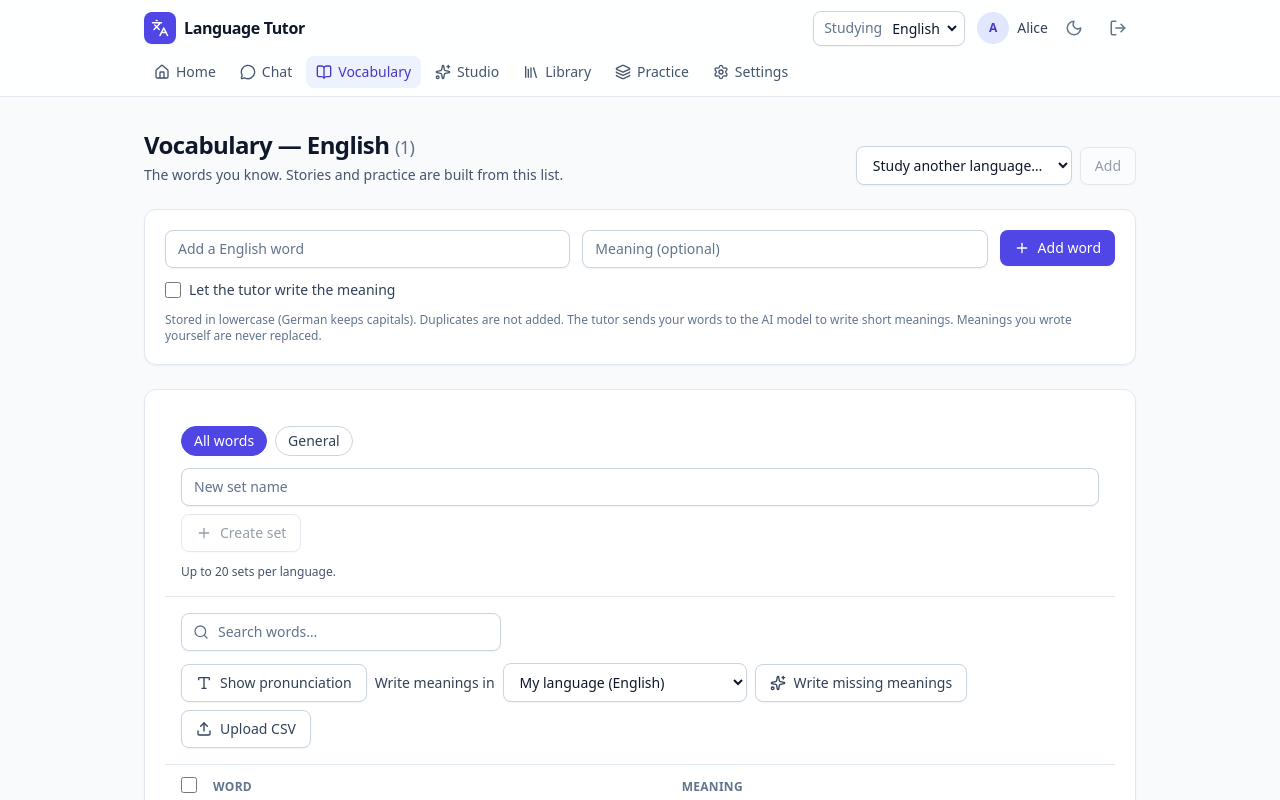
shared browser: one person after another › user B never sees user A's words after A logs out and B logs in
Step 1. Click the button named "Log out" → (1118, 28), box [1100,10,1136,46]
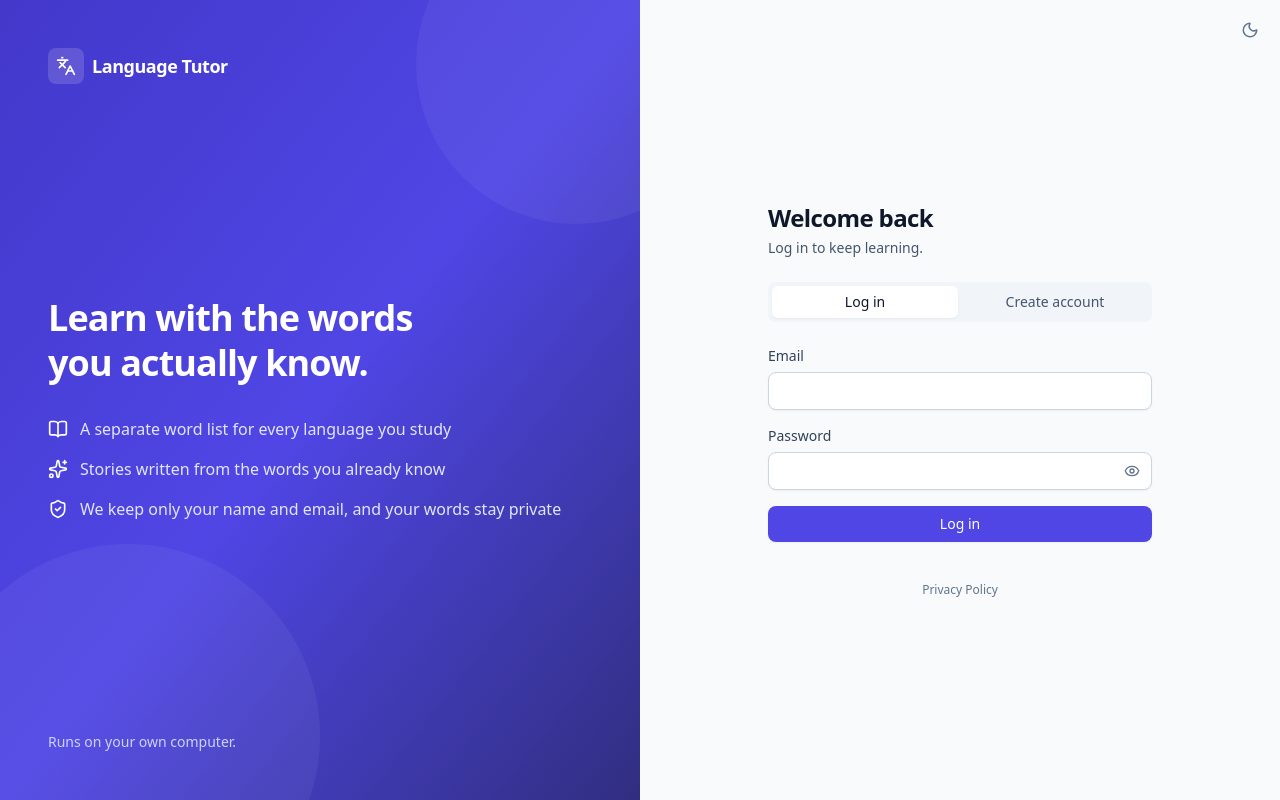
Check: the button "Log in" is shown, box [768,506,1152,542]
Step 2. Type "bob@example.com" into the field labelled "Email" → (960, 391), box [768,372,1152,410]
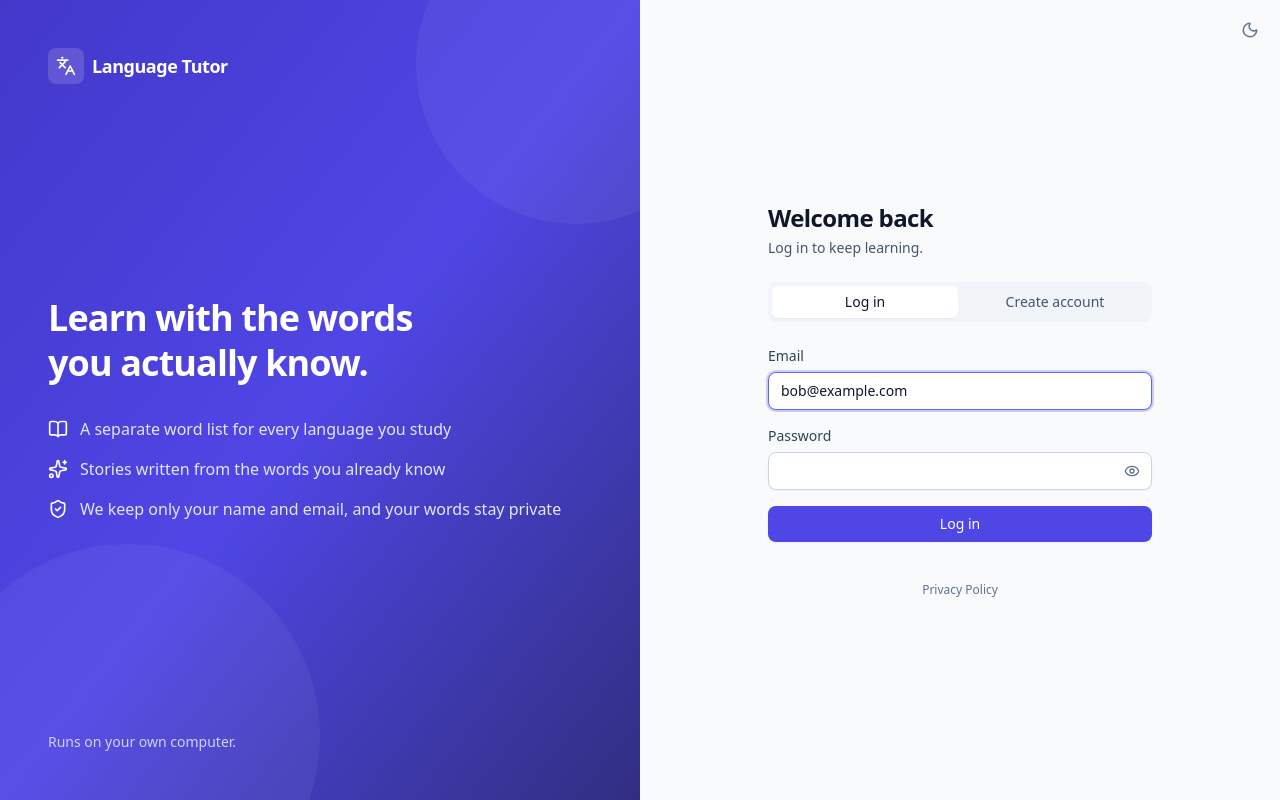
Step 3. Type "password123" into the password field labelled "Password" → (960, 471), box [768,452,1152,490]
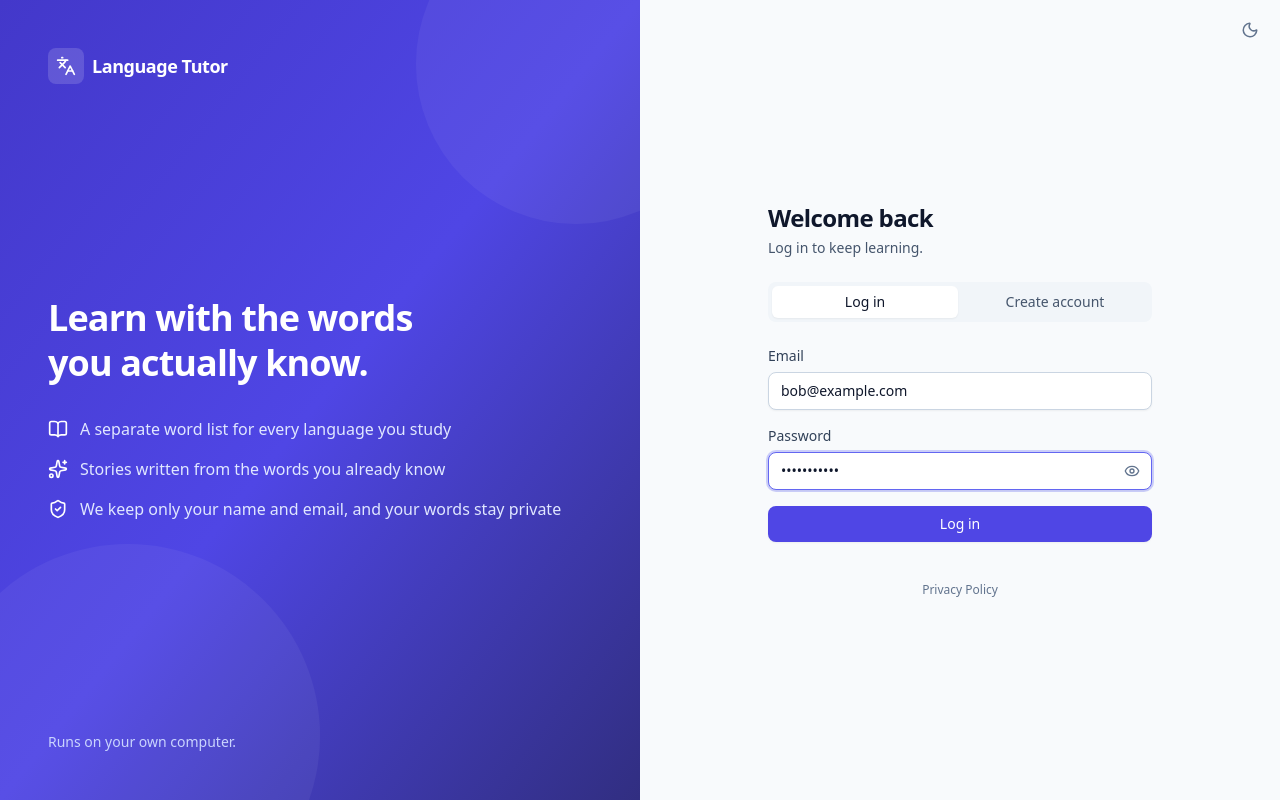
Step 4. Click the button "Log in" → (960, 524), box [768,506,1152,542]
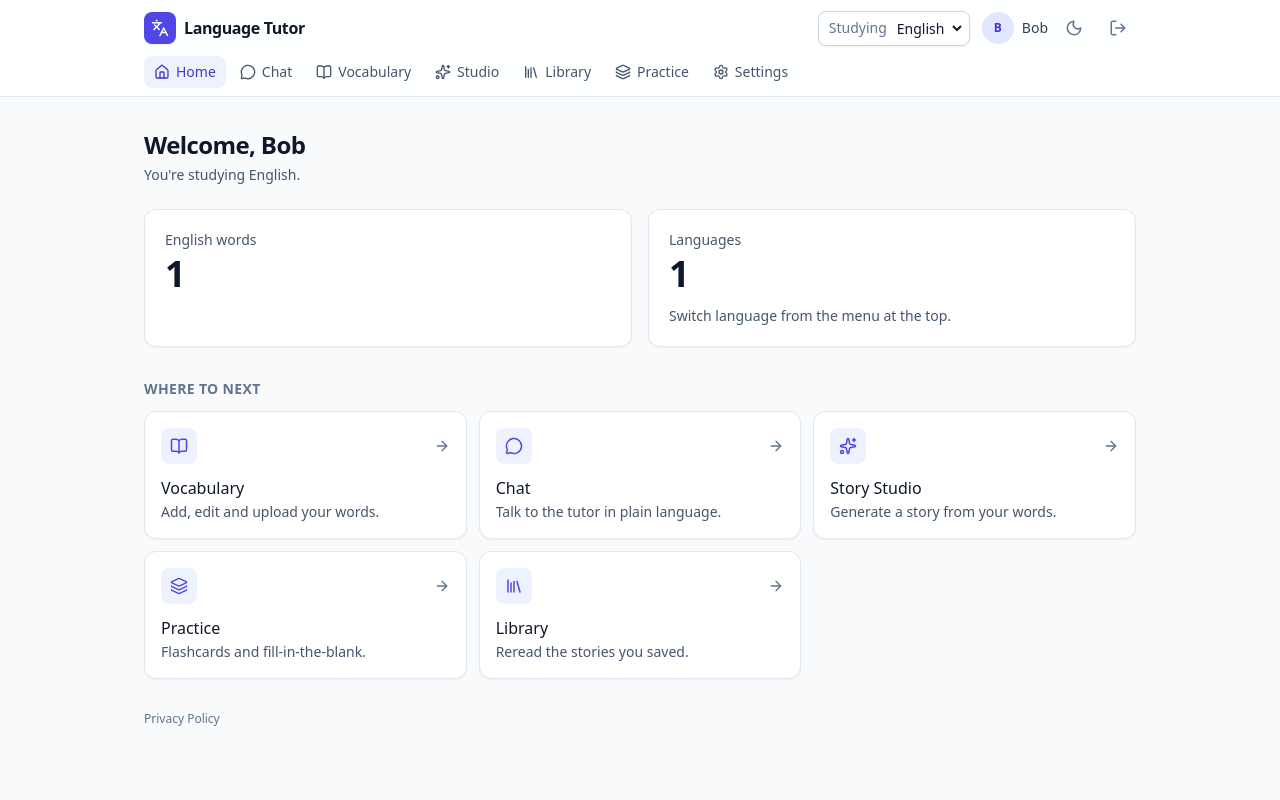
Step 5. Click the link "Vocabulary" → (364, 72), box [316,62,411,81]
(page scrolled)
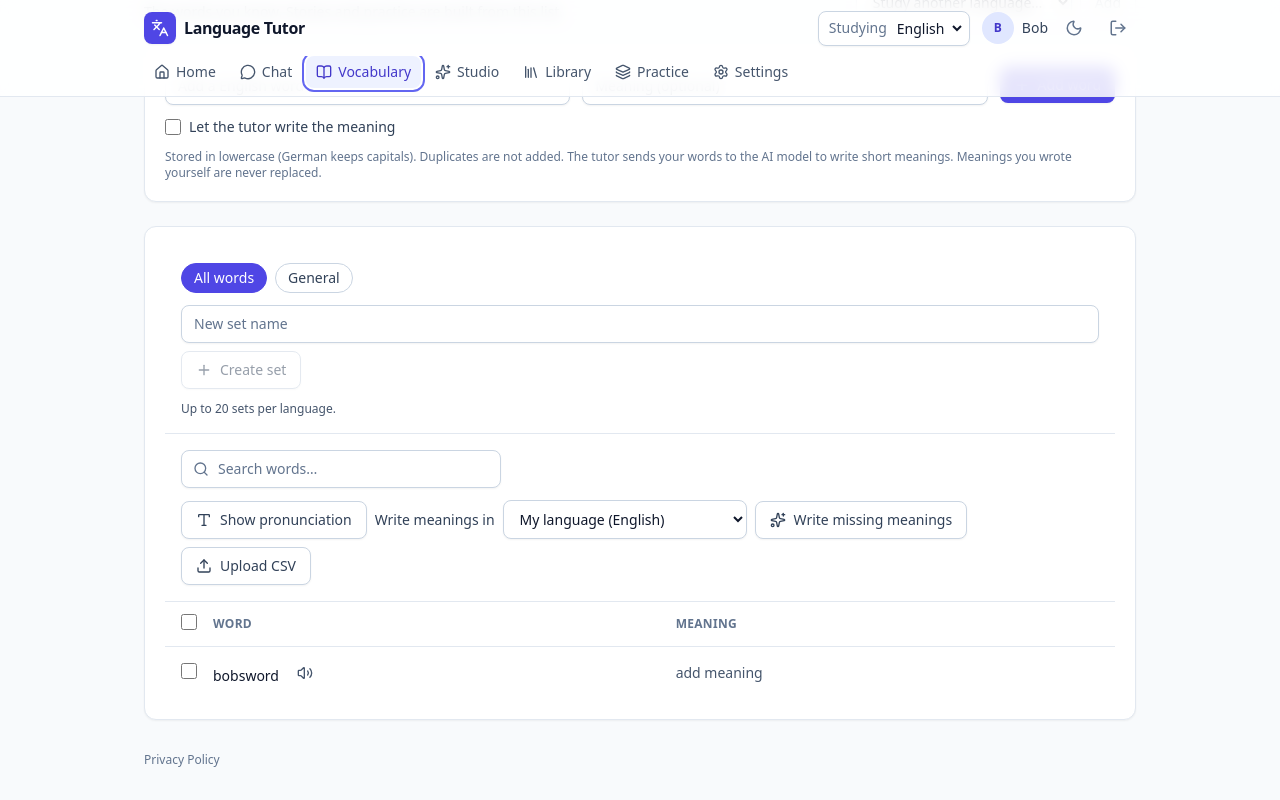
Check: the text "bobsword" is shown, box [213,666,279,685]
